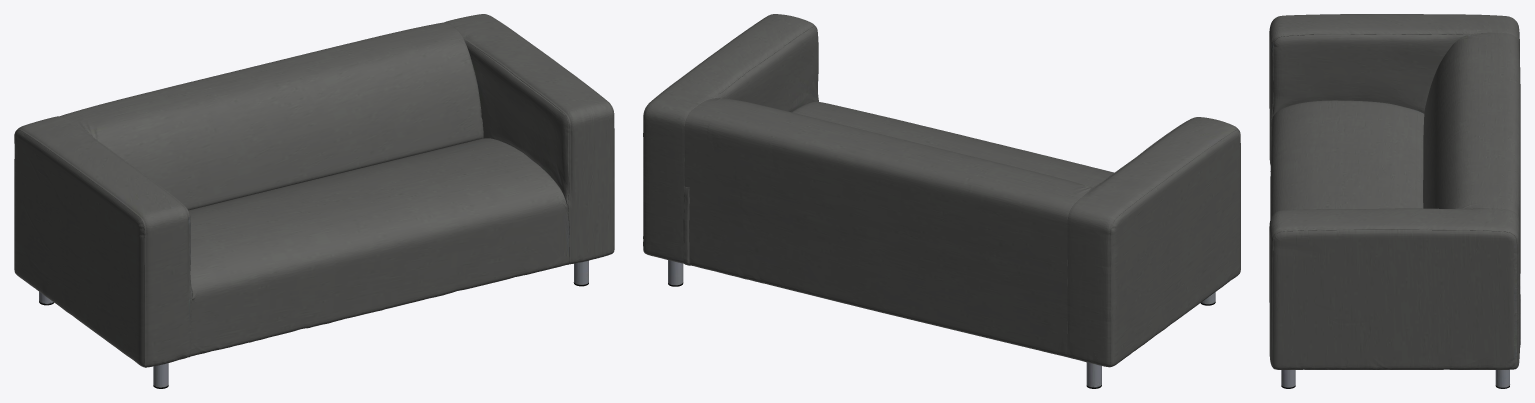
3 renders of one model, left to right at view 1: azimuth 30°, elevation 25°; view 2: azimuth 150°, elevation 25°; view 3: azimuth 270°, elevation 25°, orthographic. The views are drawn at different scales.
Parts seen in each view (by area): view 1: GLTF; view 2: GLTF; view 3: GLTF.
Part boxes in pixels (box(x1,y1,x2,y2)): GLTF: box(14, 14, 614, 388); GLTF: box(643, 14, 1240, 388); GLTF: box(1269, 14, 1520, 388).
Bounding box in the file's own units: 1.8 × 0.6599 × 0.8799.
1 material, 1 textured.
